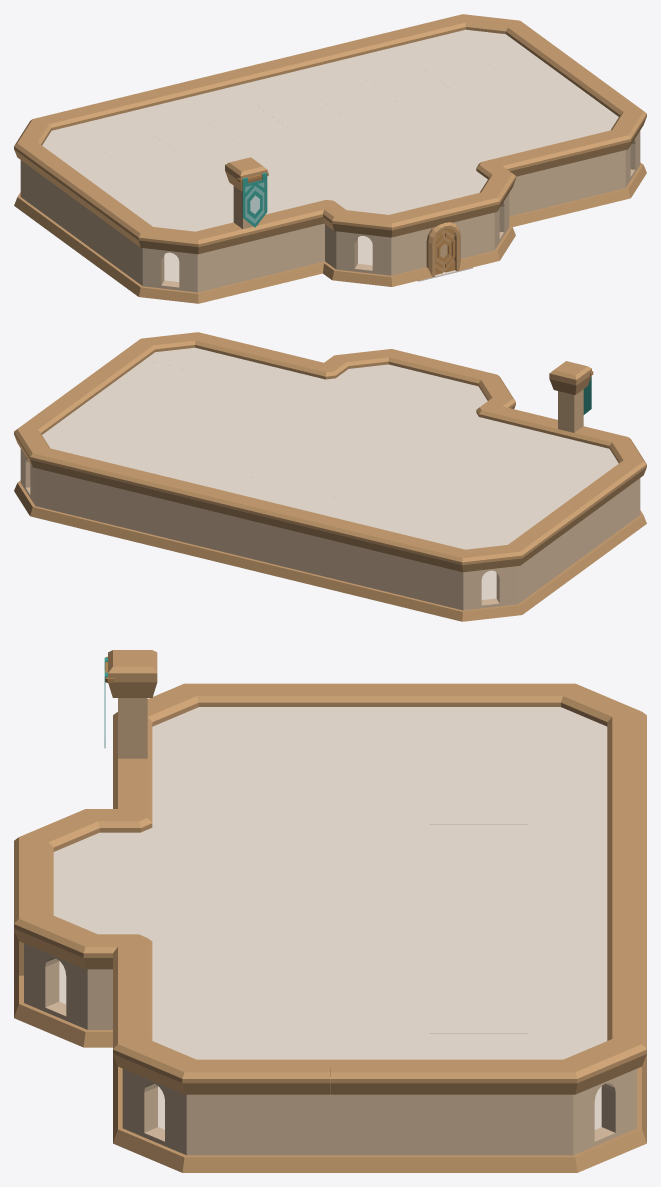
Rendered from Big Desert House.fbx.
3 renders of one model, top to bottom at view 1: azimuth 30°, elevation 25°; view 2: azimuth 150°, elevation 25°; view 3: azimuth 270°, elevation 25°, orthographic. The views are drawn at different scales.
Visible parts, largest first — view 1: mergedBlocks; view 2: mergedBlocks; view 3: mergedBlocks.
Boxes of the visible parts, x1,y1,x2,y2 form: mergedBlocks: (14,14,646,303); mergedBlocks: (14,332,646,621); mergedBlocks: (14,650,646,1172).
Bounding box in the file's own units: 94 × 21.7 × 64.
